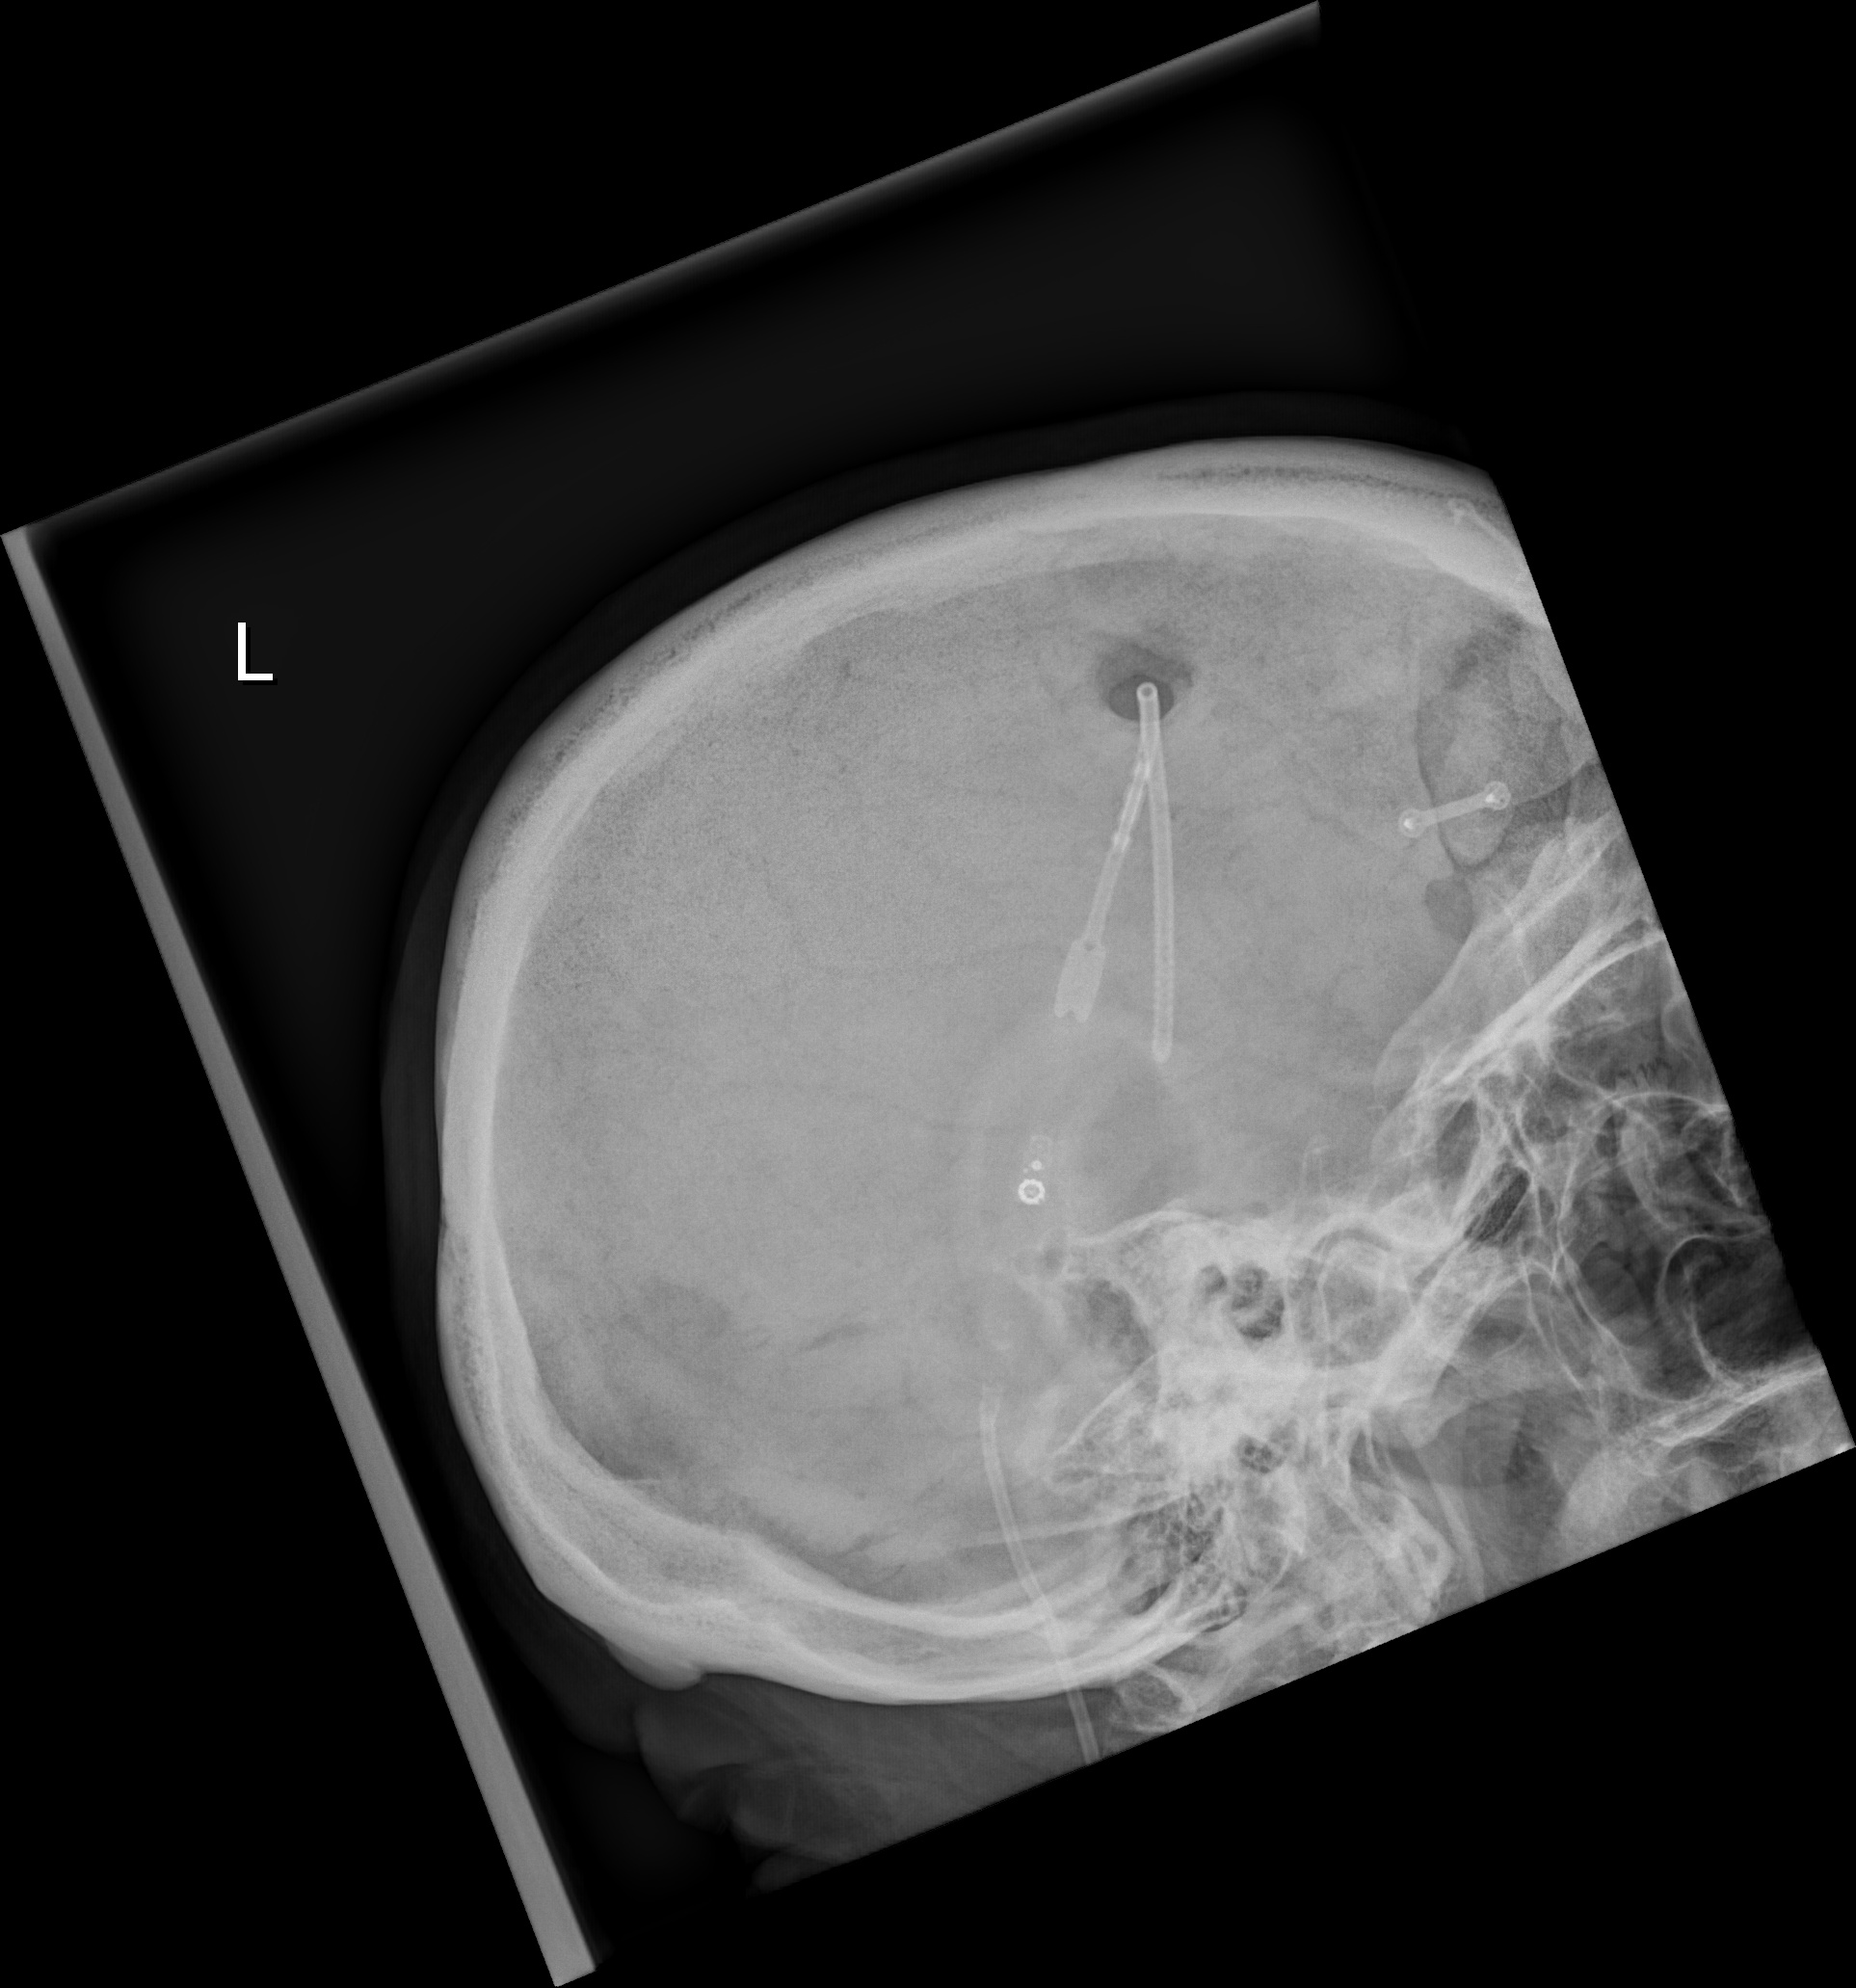Codman Hakim: (993, 1137, 1062, 1231)
